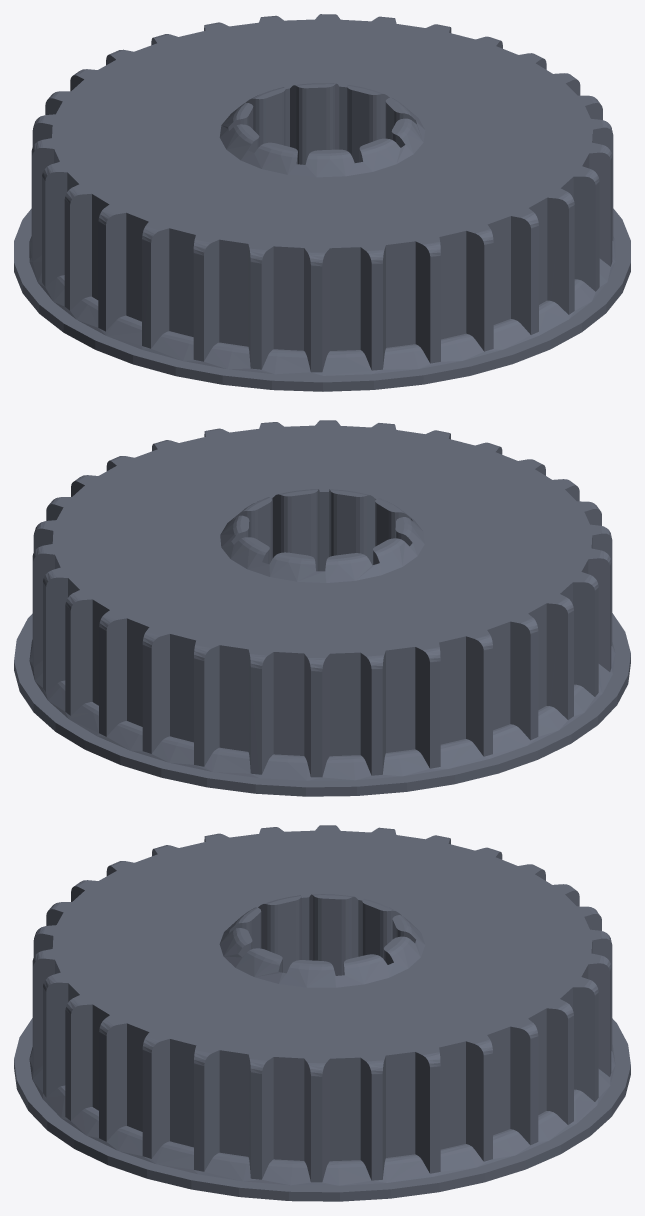
Rendered from solo_upper_leg_13.obj.
3 renders of one model, top to bottom at view 1: azimuth 30°, elevation 25°; view 2: azimuth 150°, elevation 25°; view 3: azimuth 270°, elevation 25°, orthographic.
Size of the model in its own units: 0.03 by 0.0076 by 0.03.
